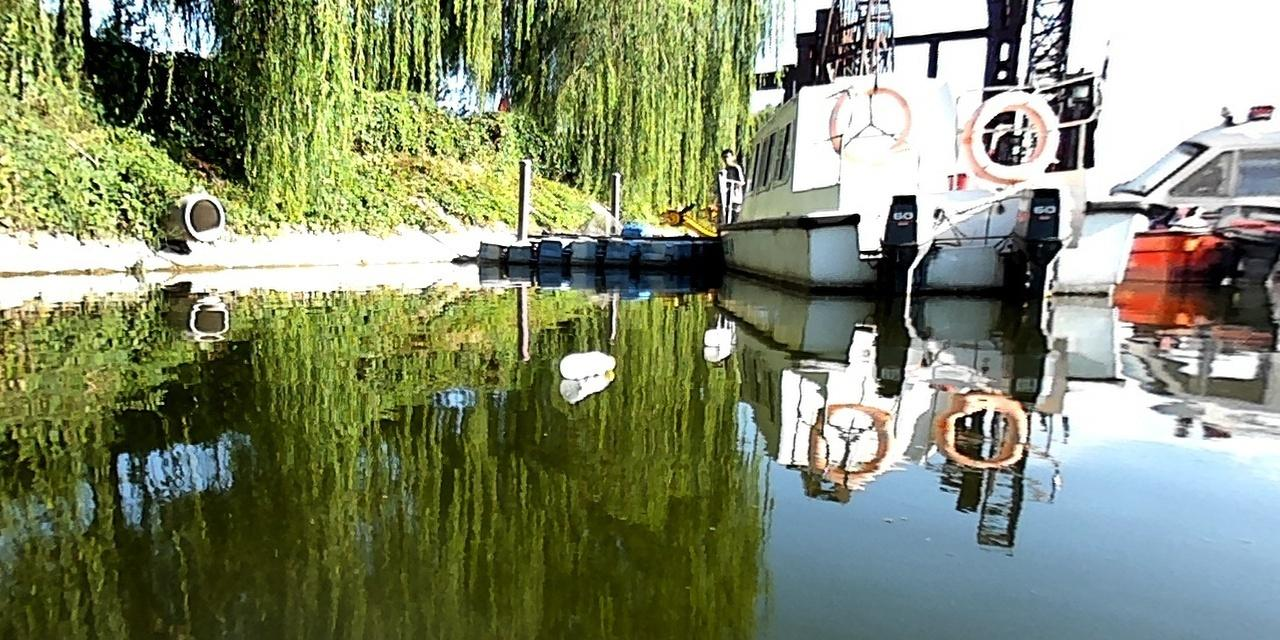bottle: (559, 351, 615, 374), (701, 327, 730, 345)
